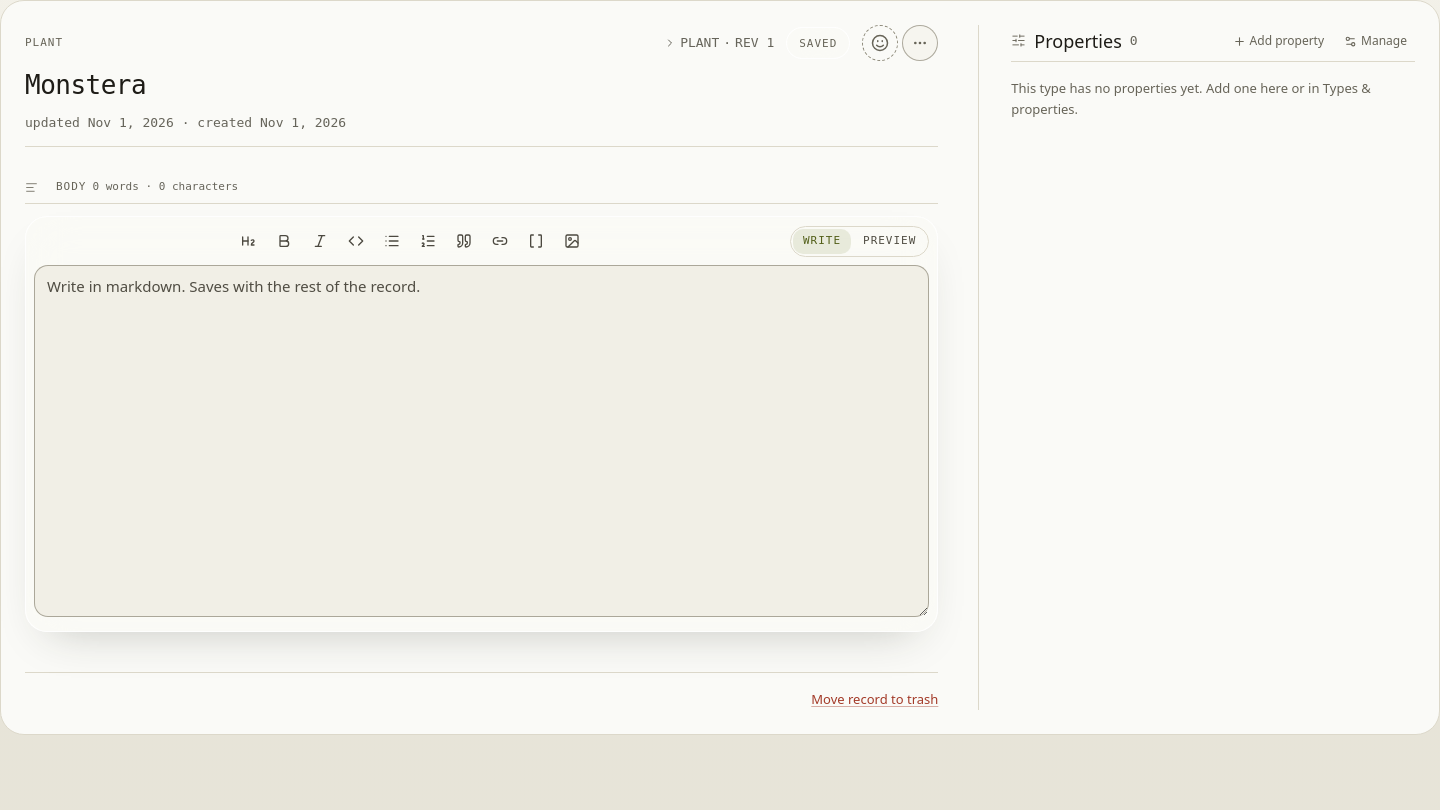
Test: ObjectPanel rename repair › renames only when asked, leaving the source body untouched
The image size is (1440, 810).
Replace the text in the field named "title" with "Monstera deliciosa": (482, 85) [25,65,938,105]
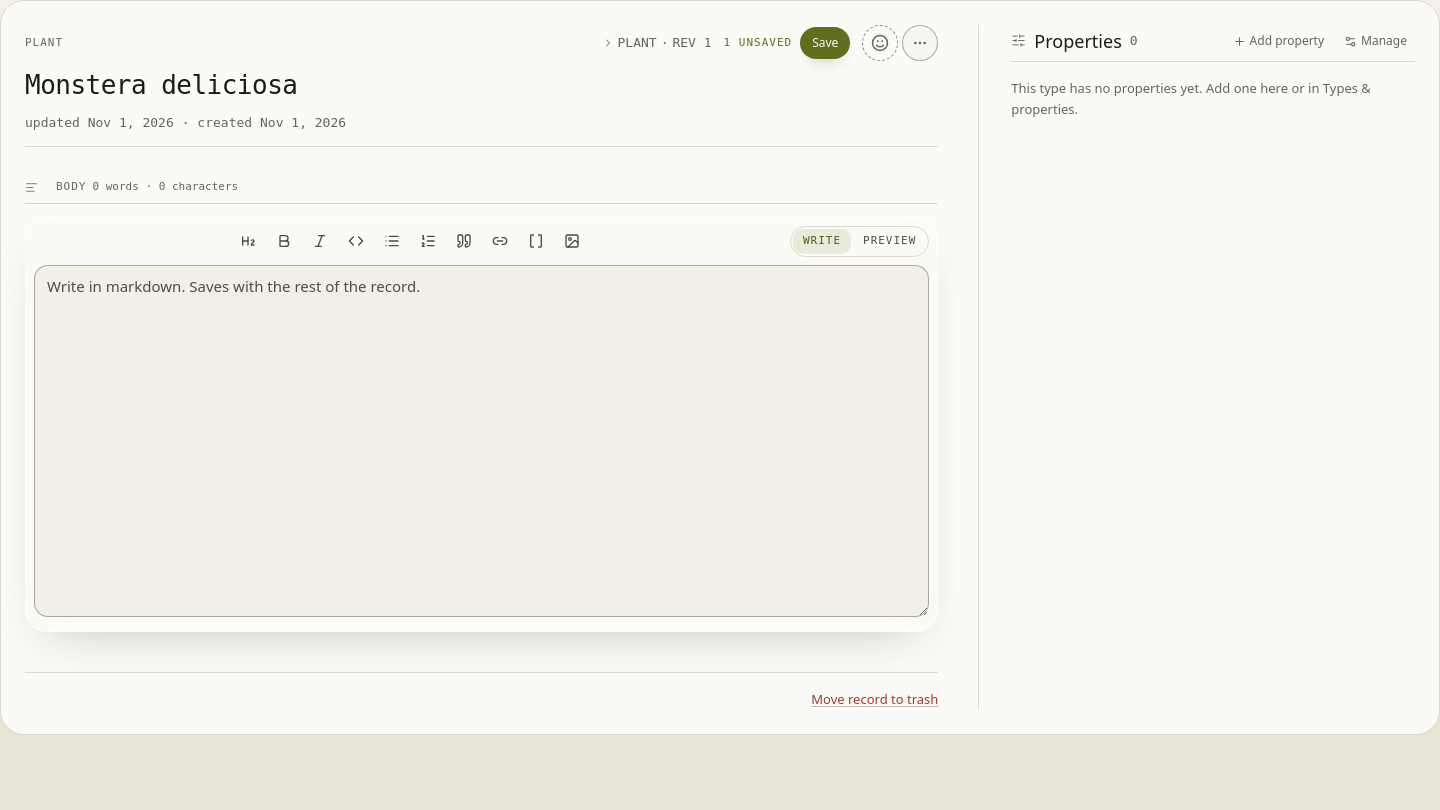
Click the button "Save": (825, 43) [800,27,850,59]
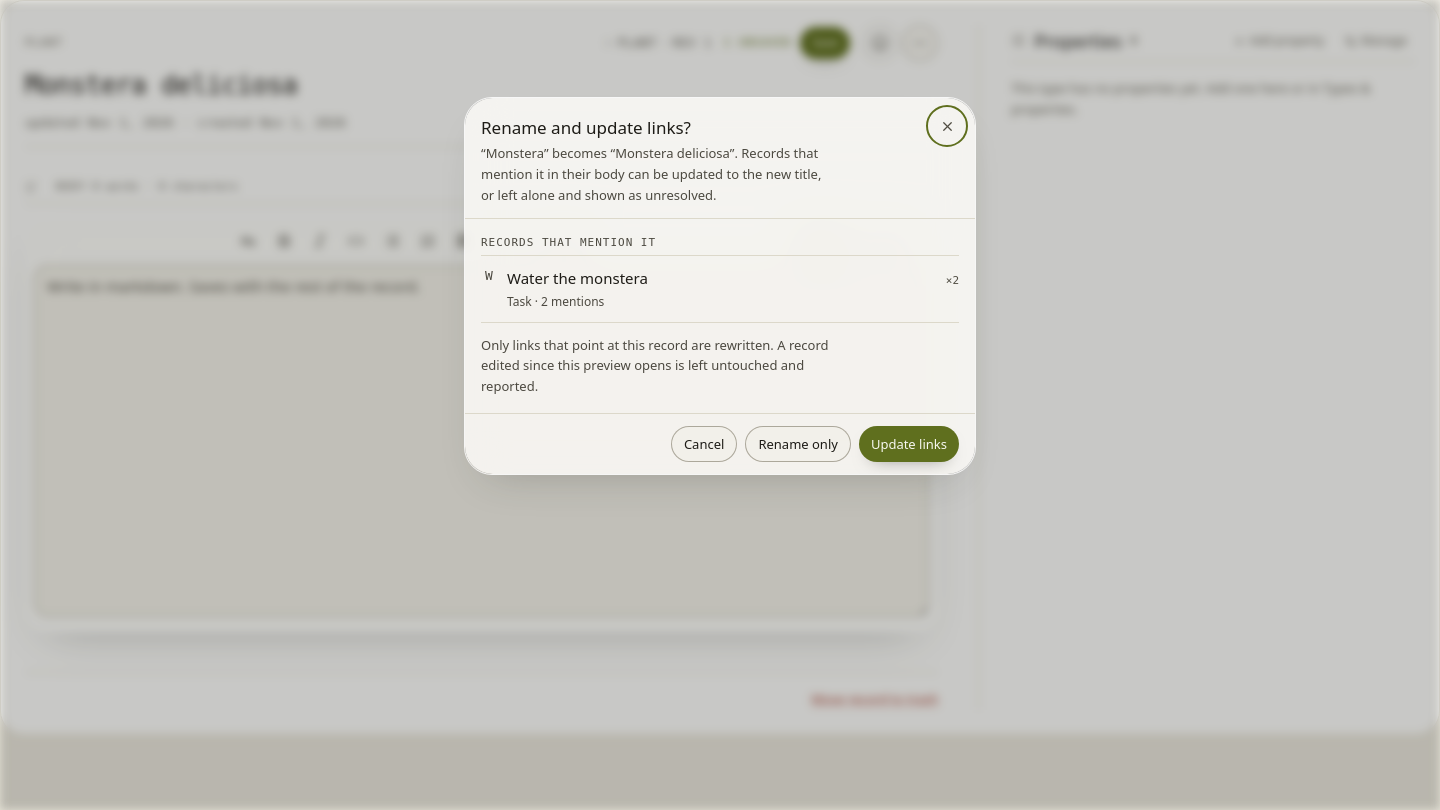
Check: the heading "Rename and update links?" is shown, box [481,116,691,139]
Check: the button "Update links" is enabled, box [859,426,959,462]
Click the button "Rename only": (798, 444) [745,426,851,462]
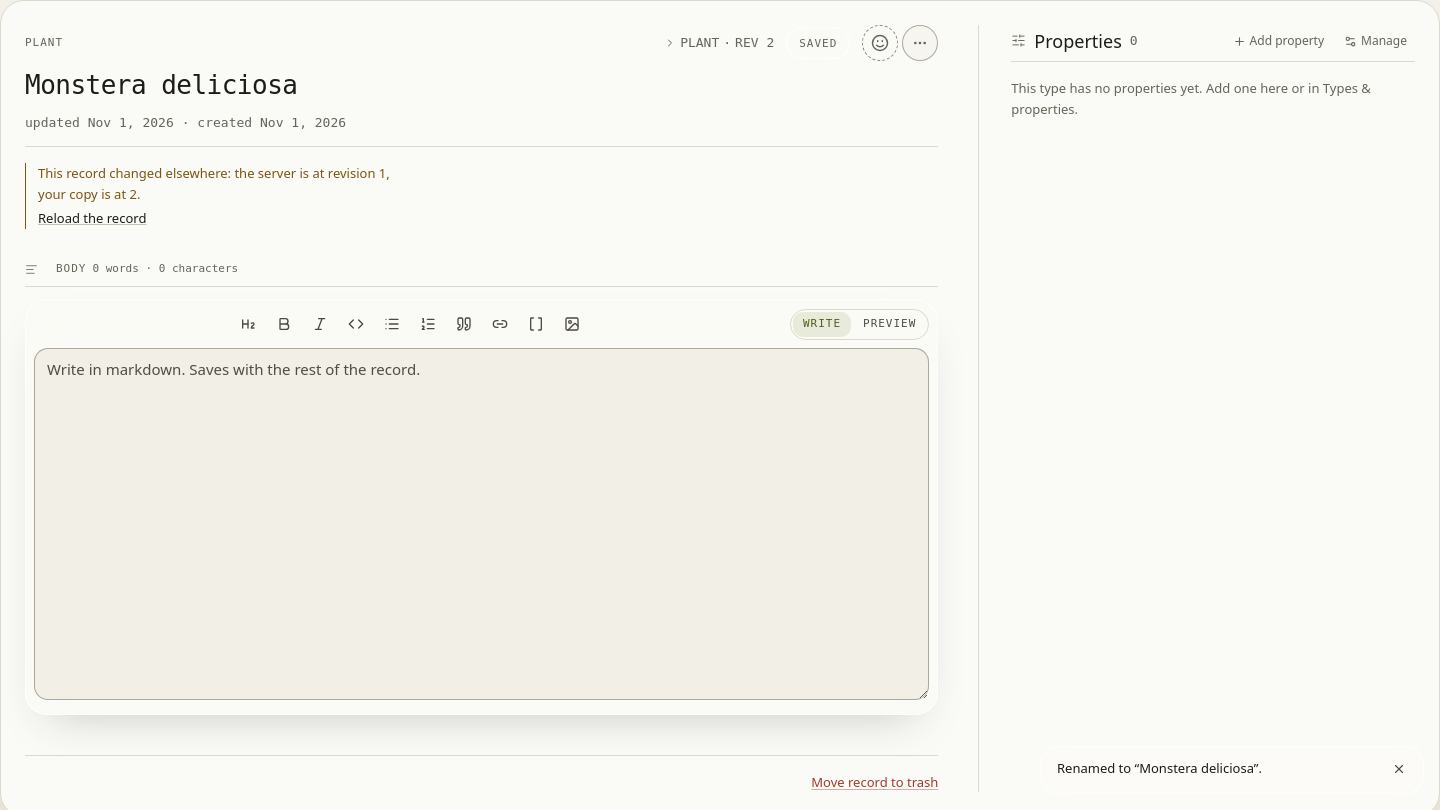
Check: the text "Renamed to “Monstera deliciosa”." is shown, box [1057,759,1262,777]
